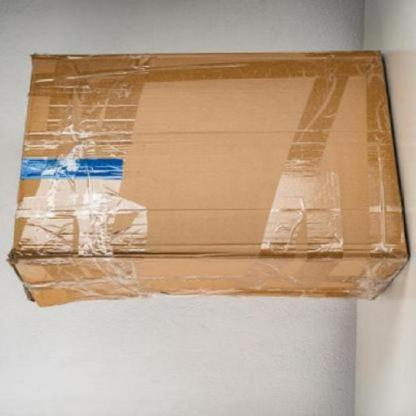box: (6, 43, 415, 321)
